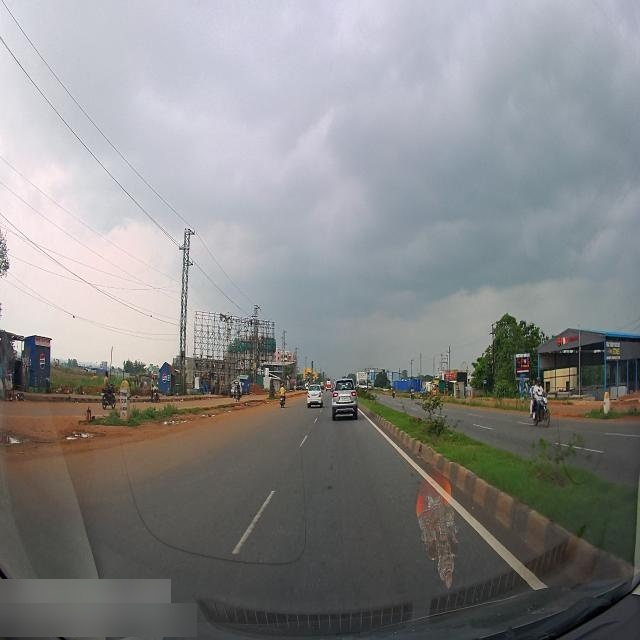pothole: (48, 408, 110, 450), (0, 414, 39, 454), (160, 410, 198, 430)
